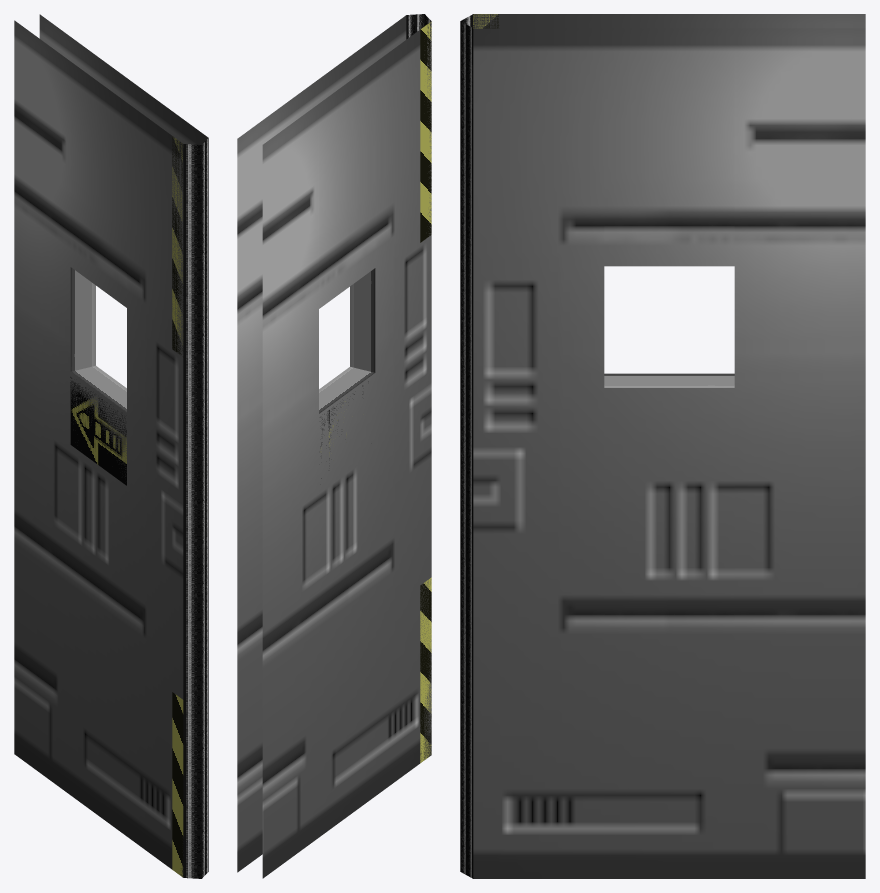
Rendered from primary_149.glb.
3 renders of one model, left to right at view 1: azimuth 30°, elevation 25°; view 2: azimuth 150°, elevation 25°; view 3: azimuth 270°, elevation 25°, orthographic. The views are drawn at different scales.
Parts seen in each view (by area): view 1: Object; view 2: Object; view 3: Object.
Part boxes in pixels (x1,y1,x2,y2): Object: (14, 14, 208, 878); Object: (237, 14, 431, 878); Object: (460, 14, 865, 878).
Size of the model in its own units: 0.1049 by 2.92 by 1.26.
7 materials, 7 textured.
